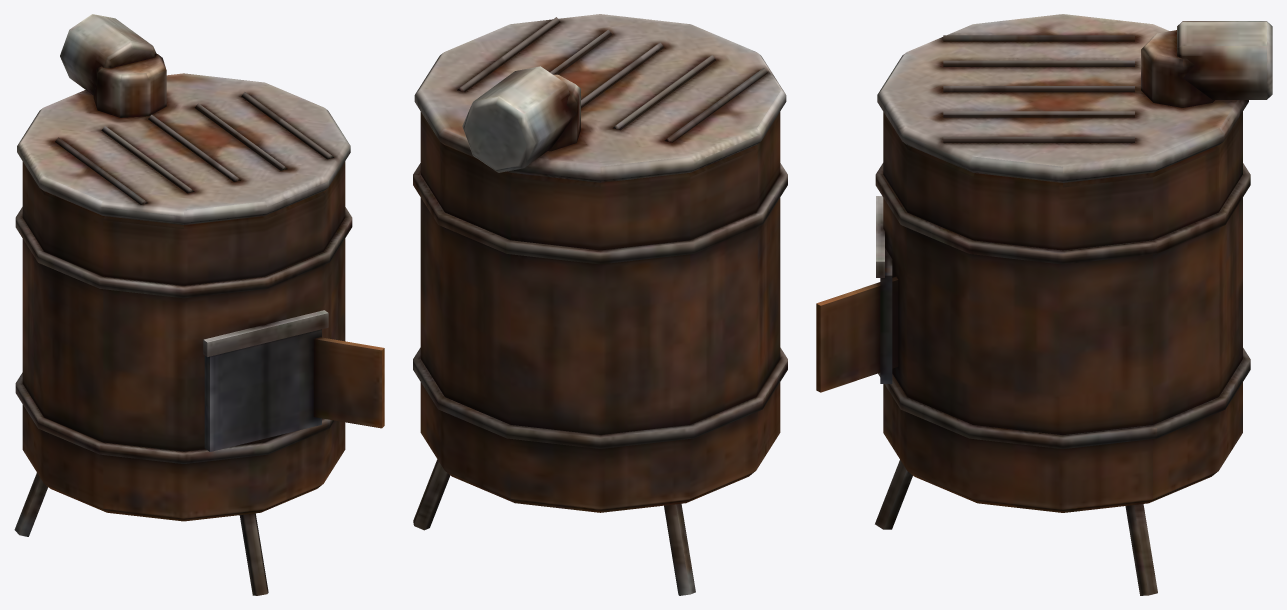
File: fogareiro.glb
3 renders of one model, left to right at view 1: azimuth 30°, elevation 25°; view 2: azimuth 150°, elevation 25°; view 3: azimuth 270°, elevation 25°, orthographic. The views are drawn at different scales.
Visible parts, largest first — view 1: fogareiro; view 2: fogareiro; view 3: fogareiro.
Part boxes in pixels (x1,y1,x2,y2): fogareiro: [14, 14, 384, 595]; fogareiro: [413, 14, 787, 595]; fogareiro: [816, 14, 1272, 595].
Size of the model in its own units: 0.6258 by 0.9353 by 0.7621.
Materials: 1 (1 with a texture image).
